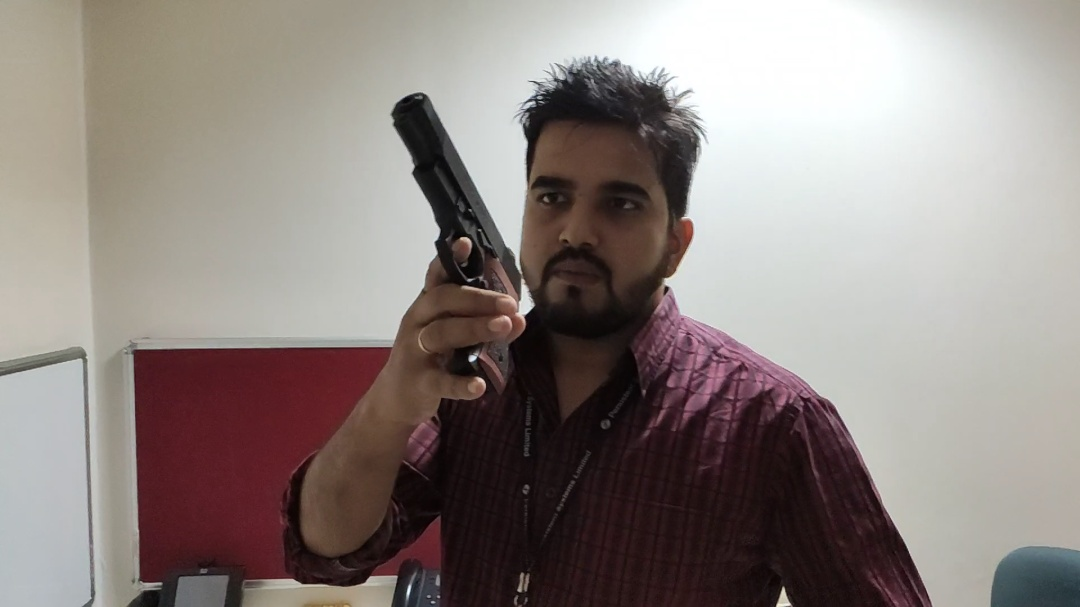gun: (379, 75, 527, 407)
